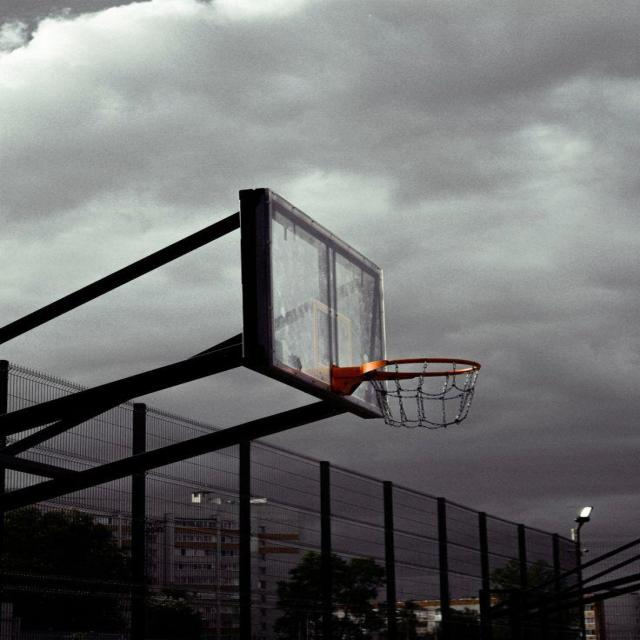hoop: (344, 345, 530, 438)
